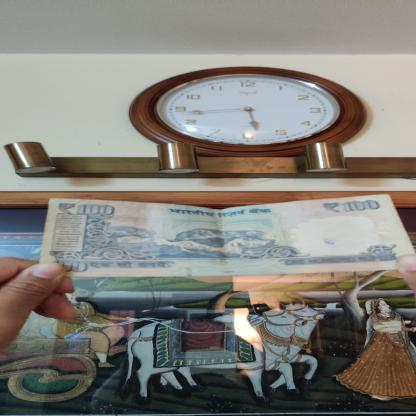Old100Back: (39, 193, 415, 277)
